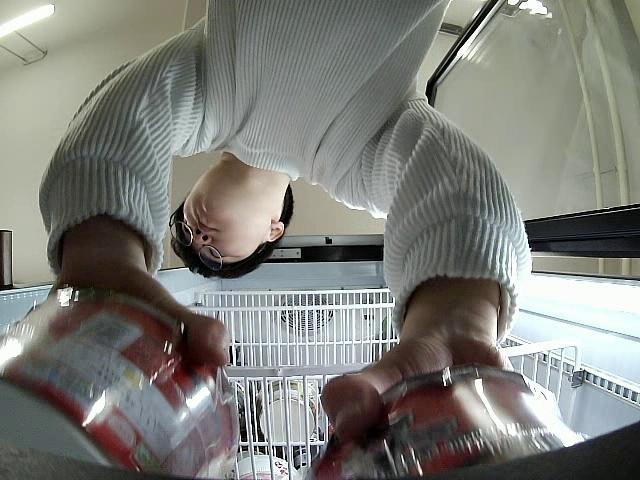01_ShinRamen_L: (0, 281, 241, 480), (306, 366, 584, 480)
